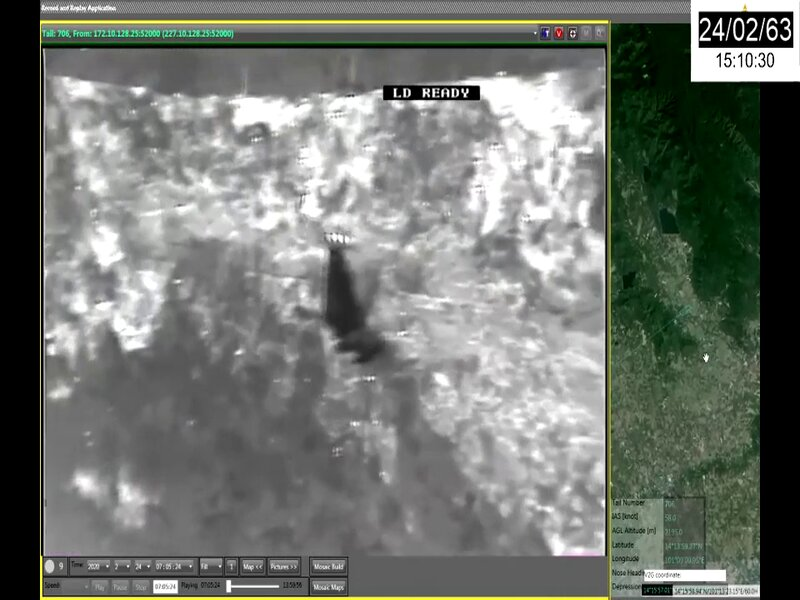Fire: (481, 68, 604, 308)
